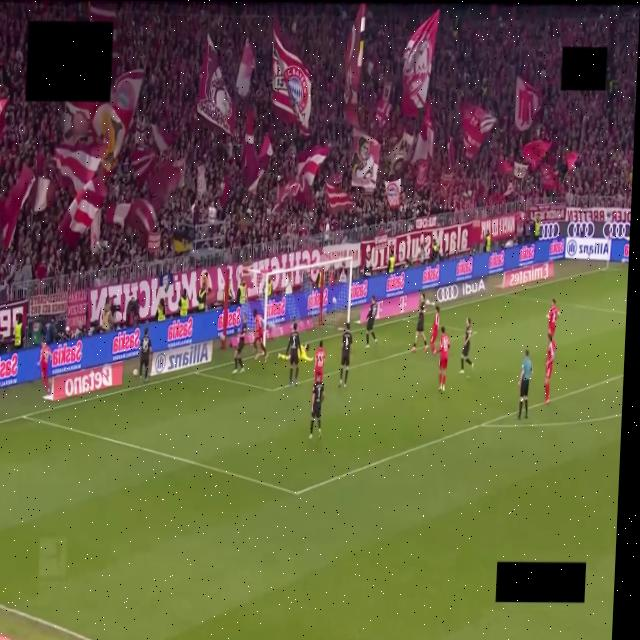ball: (132, 369, 137, 376)
player: (411, 293, 429, 352), (285, 322, 300, 385), (309, 378, 324, 439), (338, 323, 352, 387), (232, 315, 246, 374), (544, 333, 555, 403), (138, 328, 152, 381), (438, 326, 449, 391), (460, 318, 472, 374), (253, 310, 266, 361), (37, 343, 50, 394), (365, 296, 377, 348), (313, 340, 324, 380), (547, 300, 558, 337), (430, 306, 438, 354), (298, 343, 313, 361)
referee: (518, 350, 532, 419)
